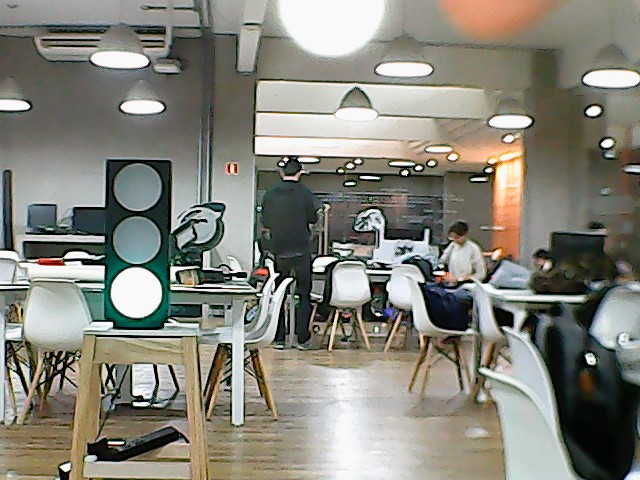verde: (100, 155, 178, 333)
